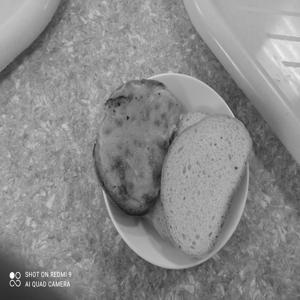bread: (157, 97, 259, 259)
cheese_sandwich: (91, 61, 183, 238)
